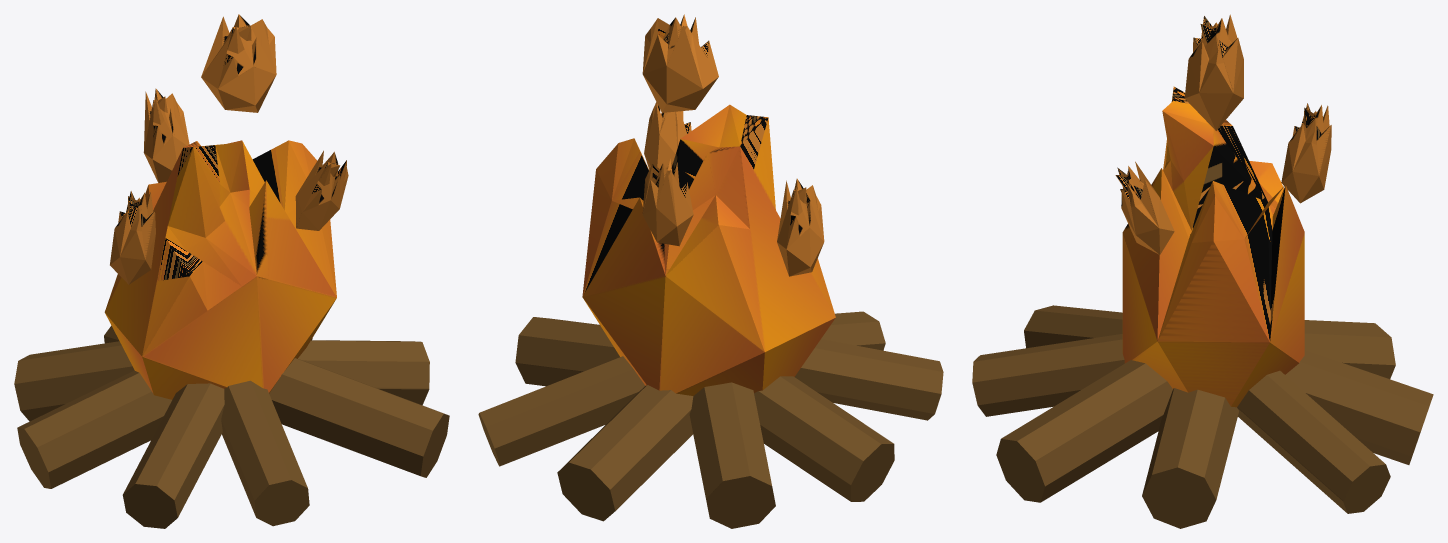
File: CUPIC_CAMPFIRE.obj
3 views of the same model, side by side, from view 1: azimuth 30°, elevation 25°; view 2: azimuth 150°, elevation 25°; view 3: azimuth 270°, elevation 25° (orthographic). The views are drawn at different scales.
Bounding box in the file's own units: 33.51 × 36.94 × 34.4.
Materials: 1 (1 with a texture image).
